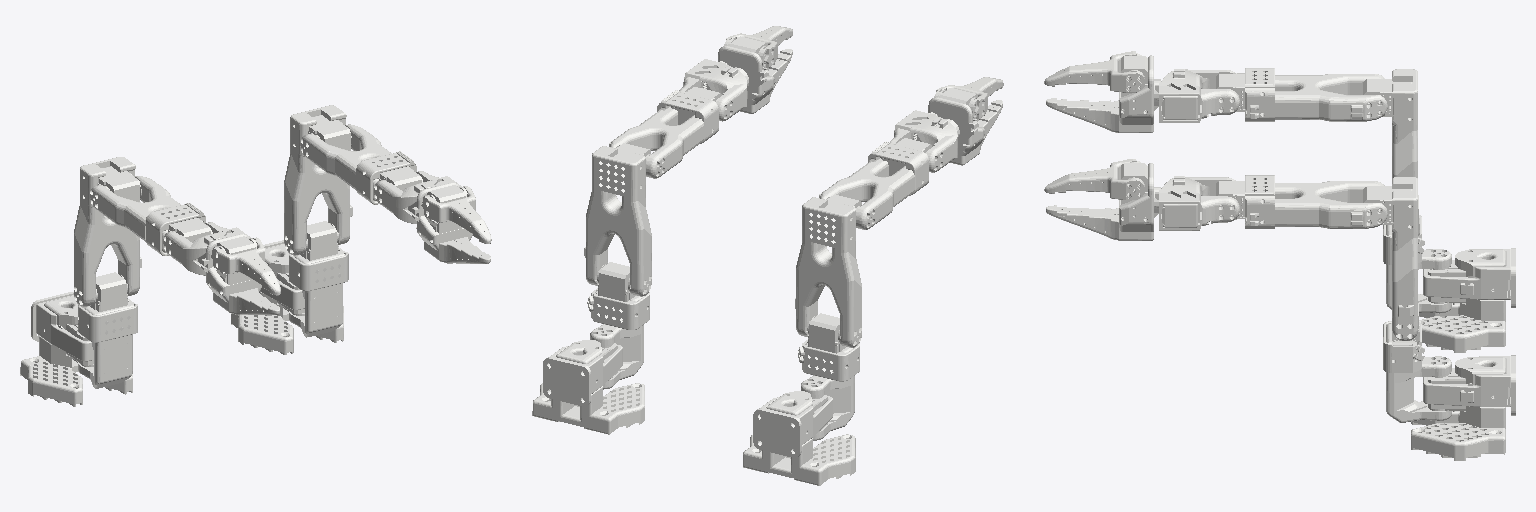
URDF robot description (Dual_S101_Assembly):
<?xml version="1.0" encoding="utf-8"?>
<!-- This URDF was automatically created by SolidWorks to URDF Exporter! Originally created by Stephen Brawner (brawner@gmail.com)
     Commit Version: 1.6.0-4-g7f85cfe  Build Version: 1.6.7995.38578
     For more information, please see http://wiki.ros.org/sw_urdf_exporter -->
<robot
  name="Dual_S101_Assembly">
  <link
    name="dual_arm_base">
    <inertial>
      <origin
        xyz="-0.0178305299775216 -0.0312739666747981 0.495861472904819"
        rpy="0 0 0" />
      <mass
        value="0.113223328532494" />
      <inertia
        ixx="4.32536013472457E-05"
        ixy="4.80940408470063E-07"
        ixz="-3.84409745863671E-07"
        iyy="0.000100588548123803"
        iyz="-6.90395402582089E-06"
        izz="0.000117560067330291" />
    </inertial>
    <visual>
      <origin
        xyz="0 0 0"
        rpy="0 0 0" />
      <geometry>
        <mesh
          filename="meshes/dual_arm_base.STL" />
      </geometry>
      <material
        name="">
        <color
          rgba="0.752941176470588 0.752941176470588 0.752941176470588 1" />
      </material>
    </visual>
    <collision>
      <origin
        xyz="0 0 0"
        rpy="0 0 0" />
      <geometry>
        <mesh
          filename="meshes/dual_arm_base.STL" />
      </geometry>
    </collision>
  </link>
  <link
    name="left_base">
    <inertial>
      <origin
        xyz="0.0162346687723646 -3.83724601515506E-05 0.0312250752546322"
        rpy="0 0 0" />
      <mass
        value="0.19173383972435" />
      <inertia
        ixx="0.000152939124549041"
        ixy="-5.13155925834886E-07"
        ixz="2.1208078238967E-05"
        iyy="0.000140329549233141"
        iyz="-2.4332900270951E-09"
        izz="0.000177680306692991" />
    </inertial>
    <visual>
      <origin
        xyz="0 0 0"
        rpy="0 0 0" />
      <geometry>
        <mesh
          filename="meshes/left_base.STL" />
      </geometry>
      <material
        name="">
        <color
          rgba="0.964705882352941 0.964705882352941 0.952941176470588 1" />
      </material>
    </visual>
    <collision>
      <origin
        xyz="0 0 0"
        rpy="0 0 0" />
      <geometry>
        <mesh
          filename="meshes/left_base.STL" />
      </geometry>
    </collision>
  </link>
  <joint
    name="left_joint_0"
    type="fixed">
    <origin
      xyz="0.11603 -0.0146 0.0048"
      rpy="0 0 -1.5708" />
    <parent
      link="dual_arm_base" />
    <child
      link="left_base" />
    <axis
      xyz="0 0 0" />
  </joint>
  <link
    name="left_shoulder">
    <inertial>
      <origin
        xyz="-0.031142635636725 -0.000121917022185905 -0.0110181845545189"
        rpy="0 0 0" />
      <mass
        value="0.118341939887238" />
      <inertia
        ixx="5.86113763858292E-05"
        ixy="8.61016250704921E-08"
        ixz="-4.52834126978146E-06"
        iyy="5.99919497140707E-05"
        iyz="-4.41406769865219E-07"
        izz="3.2731977952912E-05" />
    </inertial>
    <visual>
      <origin
        xyz="0 0 0"
        rpy="0 0 0" />
      <geometry>
        <mesh
          filename="meshes/left_shoulder.STL" />
      </geometry>
      <material
        name="">
        <color
          rgba="0.964705882352941 0.964705882352941 0.952941176470588 1" />
      </material>
    </visual>
    <collision>
      <origin
        xyz="0 0 0"
        rpy="0 0 0" />
      <geometry>
        <mesh
          filename="meshes/left_shoulder.STL" />
      </geometry>
    </collision>
  </link>
  <joint
    name="left_joint_1"
    type="revolute">
    <origin
      xyz="0.0452 0 0.0648"
      rpy="3.1416 0 -3.1416" />
    <parent
      link="left_base" />
    <child
      link="left_shoulder" />
    <axis
      xyz="0 0 1" />
    <limit
      lower="-1.9199"
      upper="1.9199"
      effort="3.0"
      velocity="10" />
    <dynamics
      damping="0.1"
      friction="0.1" />
    <safety_controller
      soft_upper_limit="1.8326"
      soft_lower_limit="-1.8326"
      k_position="100"
      k_velocity="10" />
  </joint>
  <link
    name="left_upper_arm">
    <inertial>
      <origin
        xyz="-0.0728206340591942 -0.00327441510690678 0.0182861176478301"
        rpy="0 0 0" />
      <mass
        value="0.15363212902419" />
      <inertia
        ixx="6.05949137462722E-05"
        ixy="2.03942902703261E-06"
        ixz="-1.39579952363567E-06"
        iyy="0.000189440396477305"
        iyz="-1.38443815875347E-07"
        izz="0.000151916888224126" />
    </inertial>
    <visual>
      <origin
        xyz="0 0 0"
        rpy="0 0 0" />
      <geometry>
        <mesh
          filename="meshes/left_upper_arm.STL" />
      </geometry>
      <material
        name="">
        <color
          rgba="0.964705882352941 0.964705882352941 0.952941176470588 1" />
      </material>
    </visual>
    <collision>
      <origin
        xyz="0 0 0"
        rpy="0 0 0" />
      <geometry>
        <mesh
          filename="meshes/left_upper_arm.STL" />
      </geometry>
    </collision>
  </link>
  <joint
    name="left_joint_2"
    type="revolute">
    <origin
      xyz="-0.0306 -0.0183 -0.0542"
      rpy="-1.5708 -1.5708 0" />
    <parent
      link="left_shoulder" />
    <child
      link="left_upper_arm" />
    <axis
      xyz="0 0 1" />
    <limit
      lower="-1.7453"
      upper="1.7453"
      effort="3.0"
      velocity="10" />
    <dynamics
      damping="0.1"
      friction="0.1" />
    <safety_controller
      soft_upper_limit="1.6581"
      soft_lower_limit="-1.6581"
      k_position="100"
      k_velocity="10" />
  </joint>
  <link
    name="left_lower_arm">
    <inertial>
      <origin
        xyz="-0.0775719382382264 0.00151952534810351 0.0180810175073838"
        rpy="0 0 0" />
      <mass
        value="0.143060147475685" />
      <inertia
        ixx="4.97460992968506E-05"
        ixy="-1.66006625280883E-06"
        ixz="8.74081902598206E-07"
        iyy="0.000134184383760885"
        iyz="6.16843370177025E-08"
        izz="0.000101485796665944" />
    </inertial>
    <visual>
      <origin
        xyz="0 0 0"
        rpy="0 0 0" />
      <geometry>
        <mesh
          filename="meshes/left_lower_arm.STL" />
      </geometry>
      <material
        name="">
        <color
          rgba="0.964705882352941 0.964705882352941 0.952941176470588 1" />
      </material>
    </visual>
    <collision>
      <origin
        xyz="0 0 0"
        rpy="0 0 0" />
      <geometry>
        <mesh
          filename="meshes/left_lower_arm.STL" />
      </geometry>
    </collision>
  </link>
  <joint
    name="left_joint_3"
    type="revolute">
    <origin
      xyz="-0.11257 -0.028 0"
      rpy="0 0 1.5708" />
    <parent
      link="left_upper_arm" />
    <child
      link="left_lower_arm" />
    <axis
      xyz="0 0 1" />
    <limit
      lower="-1.7453"
      upper="1.5708"
      effort="3.0"
      velocity="10" />
    <dynamics
      damping="0.1"
      friction="0.1" />
    <safety_controller
      soft_upper_limit="1.4835"
      soft_lower_limit="-1.6581"
      k_position="100"
      k_velocity="10" />
  </joint>
  <link
    name="left_wrist">
    <inertial>
      <origin
        xyz="-0.000184791961547442 -0.0353221206101238 0.025761322149223"
        rpy="0 0 0" />
      <mass
        value="0.0679708516273379" />
      <inertia
        ixx="3.41516470839204E-05"
        ixy="-1.17324864266176E-07"
        ixz="2.22549206578718E-08"
        iyy="2.44773195608375E-05"
        iyz="1.70608957623072E-06"
        izz="1.91135045565851E-05" />
    </inertial>
    <visual>
      <origin
        xyz="0 0 0"
        rpy="0 0 0" />
      <geometry>
        <mesh
          filename="meshes/left_wrist.STL" />
      </geometry>
      <material
        name="">
        <color
          rgba="0.964705882352941 0.964705882352941 0.952941176470588 1" />
      </material>
    </visual>
    <collision>
      <origin
        xyz="0 0 0"
        rpy="0 0 0" />
      <geometry>
        <mesh
          filename="meshes/left_wrist.STL" />
      </geometry>
    </collision>
  </link>
  <joint
    name="left_joint_4"
    type="revolute">
    <origin
      xyz="-0.1349 0.0052 0.0001"
      rpy="0 0 -1.5708" />
    <parent
      link="left_lower_arm" />
    <child
      link="left_wrist" />
    <axis
      xyz="0 0 1" />
    <limit
      lower="-1.6581"
      upper="1.6581"
      effort="3.0"
      velocity="10" />
    <dynamics
      damping="0.1"
      friction="0.1" />
    <safety_controller
      soft_upper_limit="1.5708"
      soft_lower_limit="-1.5708"
      k_position="100"
      k_velocity="10" />
  </joint>
  <link
    name="left_gripper">
    <inertial>
      <origin
        xyz="-0.00574752721018881 0.000439341267677723 -0.0266680289023382"
        rpy="0 0 0" />
      <mass
        value="0.092841669574477" />
      <inertia
        ixx="4.186396427962E-05"
        ixy="-5.47746420935492E-07"
        ixz="-6.83555875832769E-06"
        iyy="4.93735843503565E-05"
        iyz="-1.12209425132196E-07"
        izz="2.99241051160195E-05" />
    </inertial>
    <visual>
      <origin
        xyz="0 0 0"
        rpy="0 0 0" />
      <geometry>
        <mesh
          filename="meshes/left_gripper.STL" />
      </geometry>
      <material
        name="">
        <color
          rgba="0.964705882352941 0.964705882352941 0.952941176470588 1" />
      </material>
    </visual>
    <collision>
      <origin
        xyz="0 0 0"
        rpy="0 0 0" />
      <geometry>
        <mesh
          filename="meshes/left_gripper.STL" />
      </geometry>
    </collision>
  </link>
  <joint
    name="left_joint_5"
    type="revolute">
    <origin
      xyz="0 -0.0611 0.017882"
      rpy="1.5708 0 3.1416" />
    <parent
      link="left_wrist" />
    <child
      link="left_gripper" />
    <axis
      xyz="0 0 1" />
    <limit
      lower="-2.7925"
      upper="2.7925"
      effort="3.0"
      velocity="10" />
    <dynamics
      damping="0.1"
      friction="0.1" />
    <safety_controller
      soft_upper_limit="2.7053"
      soft_lower_limit="-2.7053"
      k_position="100"
      k_velocity="10" />
  </joint>
  <link
    name="left_jaw">
    <inertial>
      <origin
        xyz="-0.0015747081403174 -0.0300218594135709 0.019275602442142"
        rpy="0 0 0" />
      <mass
        value="0.0206924694063983" />
      <inertia
        ixx="1.14040266296032E-05"
        ixy="-5.5140615838995E-07"
        ixz="-1.01818943800375E-08"
        iyy="3.25982231241225E-06"
        iyz="-1.8947308010859E-07"
        izz="9.11579055714954E-06" />
    </inertial>
    <visual>
      <origin
        xyz="0 0 0"
        rpy="0 0 0" />
      <geometry>
        <mesh
          filename="meshes/left_jaw.STL" />
      </geometry>
      <material
        name="">
        <color
          rgba="0.964705882352941 0.964705882352941 0.952941176470588 1" />
      </material>
    </visual>
    <collision>
      <origin
        xyz="0 0 0"
        rpy="0 0 0" />
      <geometry>
        <mesh
          filename="meshes/left_jaw.STL" />
      </geometry>
    </collision>
  </link>
  <joint
    name="left_joint_6"
    type="revolute">
    <origin
      xyz="0.0202 0.018918 -0.0234"
      rpy="1.5708 0 0" />
    <parent
      link="left_gripper" />
    <child
      link="left_jaw" />
    <axis
      xyz="0 0 1" />
    <limit
      lower="-0.1745"
      upper="1.7453"
      effort="3.0"
      velocity="10" />
    <dynamics
      damping="0.05"
      friction="0.05" />
    <safety_controller
      soft_upper_limit="1.6581"
      soft_lower_limit="0.0873"
      k_position="50"
      k_velocity="5" />
  </joint>
  <link
    name="right_base">
    <inertial>
      <origin
        xyz="0.0162346687724207 -3.8372460282432E-05 0.0312250752543982"
        rpy="0 0 0" />
      <mass
        value="0.191733839722778" />
      <inertia
        ixx="0.000152939124548659"
        ixy="-5.13155925943902E-07"
        ixz="2.12080782391042E-05"
        iyy="0.00014032954923335"
        iyz="-2.43328979067538E-09"
        izz="0.000177680306692724" />
    </inertial>
    <visual>
      <origin
        xyz="0 0 0"
        rpy="0 0 0" />
      <geometry>
        <mesh
          filename="meshes/right_base.STL" />
      </geometry>
      <material
        name="">
        <color
          rgba="0.964705882352941 0.964705882352941 0.952941176470588 1" />
      </material>
    </visual>
    <collision>
      <origin
        xyz="0 0 0"
        rpy="0 0 0" />
      <geometry>
        <mesh
          filename="meshes/right_base.STL" />
      </geometry>
    </collision>
  </link>
  <joint
    name="right_joint_0"
    type="fixed">
    <origin
      xyz="-0.11603 -0.0146 0.0048"
      rpy="0 0 -1.5708" />
    <parent
      link="dual_arm_base" />
    <child
      link="right_base" />
    <axis
      xyz="0 0 0" />
  </joint>
  <link
    name="right_shoulder">
    <inertial>
      <origin
        xyz="-0.0311426356538473 -0.00012191698790015 -0.0110181845504216"
        rpy="0 0 0" />
      <mass
        value="0.118341939633333" />
      <inertia
        ixx="5.8611376294277E-05"
        ixy="8.61015905160519E-08"
        ixz="-4.52834124410574E-06"
        iyy="5.99919496601621E-05"
        iyz="-4.41406815526837E-07"
        izz="3.27319778730881E-05" />
    </inertial>
    <visual>
      <origin
        xyz="0 0 0"
        rpy="0 0 0" />
      <geometry>
        <mesh
          filename="meshes/right_shoulder.STL" />
      </geometry>
      <material
        name="">
        <color
          rgba="0.964705882352941 0.964705882352941 0.952941176470588 1" />
      </material>
    </visual>
    <collision>
      <origin
        xyz="0 0 0"
        rpy="0 0 0" />
      <geometry>
        <mesh
          filename="meshes/right_shoulder.STL" />
      </geometry>
    </collision>
  </link>
  <joint
    name="right_joint_1"
    type="revolute">
    <origin
      xyz="0.0452 0 0.0648"
      rpy="3.1416 0 -3.1416" />
    <parent
      link="right_base" />
    <child
      link="right_shoulder" />
    <axis
      xyz="0 0 1" />
    <limit
      lower="-1.9199"
      upper="1.9199"
      effort="3.0"
      velocity="10" />
    <dynamics
      damping="0.1"
      friction="0.1" />
    <safety_controller
      soft_upper_limit="1.8326"
      soft_lower_limit="-1.8326"
      k_position="100"
      k_velocity="10" />
  </joint>
  <link
    name="right_upper_arm">
    <inertial>
      <origin
        xyz="-0.0728206340591972 -0.00327441510690678 0.250350263689704"
        rpy="0 0 0" />
      <mass
        value="0.15363212902419" />
      <inertia
        ixx="6.05949137462722E-05"
        ixy="2.03942902703258E-06"
        ixz="-1.39579952363567E-06"
        iyy="0.000189440396477305"
        iyz="-1.38443815875406E-07"
        izz="0.000151916888224126" />
    </inertial>
    <visual>
      <origin
        xyz="0 0 0"
        rpy="0 0 0" />
      <geometry>
        <mesh
          filename="meshes/right_upper_arm.STL" />
      </geometry>
      <material
        name="">
        <color
          rgba="0.964705882352941 0.964705882352941 0.952941176470588 1" />
      </material>
    </visual>
    <collision>
      <origin
        xyz="0 0 0"
        rpy="0 0 0" />
      <geometry>
        <mesh
          filename="meshes/right_upper_arm.STL" />
      </geometry>
    </collision>
  </link>
  <joint
    name="right_joint_2"
    type="revolute">
    <origin
      xyz="-0.0306 -0.0183 -0.0542"
      rpy="-1.5708 -1.5708 0" />
    <parent
      link="right_shoulder" />
    <child
      link="right_upper_arm" />
    <axis
      xyz="0 0 1" />
    <limit
      lower="-1.7453"
      upper="1.7453"
      effort="3.0"
      velocity="10" />
    <dynamics
      damping="0.1"
      friction="0.1" />
    <safety_controller
      soft_upper_limit="1.6581"
      soft_lower_limit="-1.6581"
      k_position="100"
      k_velocity="10" />
  </joint>
  <link
    name="right_lower_arm">
    <inertial>
      <origin
        xyz="-0.0775719380306736 0.00151952533594926 0.0180810175945359"
        rpy="0 0 0" />
      <mass
        value="0.143060148064918" />
      <inertia
        ixx="4.97460996394073E-05"
        ixy="-1.66006621154095E-06"
        ixz="8.74081440084484E-07"
        iyy="0.000134184384767867"
        iyz="6.16843747496445E-08"
        izz="0.000101485797346287" />
    </inertial>
    <visual>
      <origin
        xyz="0 0 0"
        rpy="0 0 0" />
      <geometry>
        <mesh
          filename="meshes/right_lower_arm.STL" />
      </geometry>
      <material
        name="">
        <color
          rgba="0.964705882352941 0.964705882352941 0.952941176470588 1" />
      </material>
    </visual>
    <collision>
      <origin
        xyz="0 0 0"
        rpy="0 0 0" />
      <geometry>
        <mesh
          filename="meshes/right_lower_arm.STL" />
      </geometry>
    </collision>
  </link>
  <joint
    name="right_joint_3"
    type="revolute">
    <origin
      xyz="-0.11257 -0.028 0"
      rpy="0 0 1.5708" />
    <parent
      link="right_upper_arm" />
    <child
      link="right_lower_arm" />
    <axis
      xyz="0 0 1" />
    <limit
      lower="-1.7453"
      upper="1.5708"
      effort="3.0"
      velocity="10" />
    <dynamics
      damping="0.1"
      friction="0.1" />
    <safety_controller
      soft_upper_limit="1.4835"
      soft_lower_limit="-1.6581"
      k_position="100"
      k_velocity="10" />
  </joint>
  <link
    name="right_wrist">
    <inertial>
      <origin
        xyz="-0.00018479196122978 -0.0353221206091248 0.0257613221479055"
        rpy="0 0 0" />
      <mass
        value="0.0679708516331742" />
      <inertia
        ixx="3.41516470842545E-05"
        ixy="-1.1732486436127E-07"
        ixz="2.22549209410521E-08"
        iyy="2.4477319561352E-05"
        iyz="1.70608957642031E-06"
        izz="1.91135045565082E-05" />
    </inertial>
    <visual>
      <origin
        xyz="0 0 0"
        rpy="0 0 0" />
      <geometry>
        <mesh
          filename="meshes/right_wrist.STL" />
      </geometry>
      <material
        name="">
        <color
          rgba="0.964705882352941 0.964705882352941 0.952941176470588 1" />
      </material>
    </visual>
    <collision>
      <origin
        xyz="0 0 0"
        rpy="0 0 0" />
      <geometry>
        <mesh
          filename="meshes/right_wrist.STL" />
      </geometry>
    </collision>
  </link>
  <joint
    name="right_joint_4"
    type="revolute">
    <origin
      xyz="-0.1349 0.0052 0.0001"
      rpy="0 0 -1.5708" />
    <parent
      link="right_lower_arm" />
    <child
      link="right_wrist" />
    <axis
      xyz="0 0 1" />
    <limit
      lower="-1.6581"
      upper="1.6581"
      effort="3.0"
      velocity="10" />
    <dynamics
      damping="0.1"
      friction="0.1" />
    <safety_controller
      soft_upper_limit="1.5708"
      soft_lower_limit="-1.5708"
      k_position="100"
      k_velocity="10" />
  </joint>
  <link
    name="right_gripper">
    <inertial>
      <origin
        xyz="-0.00574752763582106 0.000439341024686582 -0.0266680290882676"
        rpy="0 0 0" />
      <mass
        value="0.092841671279361" />
      <inertia
        ixx="4.18639646796772E-05"
        ixy="-5.47746817354447E-07"
        ixz="-6.83555897415518E-06"
        iyy="4.93735846283438E-05"
        iyz="-1.12209606296432E-07"
        izz="2.99241055713867E-05" />
    </inertial>
    <visual>
      <origin
        xyz="0 0 0"
        rpy="0 0 0" />
      <geometry>
        <mesh
          filename="meshes/right_gripper.STL" />
      </geometry>
      <material
        name="">
        <color
          rgba="0.964705882352941 0.964705882352941 0.952941176470588 1" />
      </material>
    </visual>
    <collision>
      <origin
        xyz="0 0 0"
        rpy="0 0 0" />
      <geometry>
        <mesh
          filename="meshes/right_gripper.STL" />
      </geometry>
    </collision>
  </link>
  <joint
    name="right_joint_5"
    type="revolute">
    <origin
      xyz="0 -0.0611 0.017882"
      rpy="1.5708 0 -3.1416" />
    <parent
      link="right_wrist" />
    <child
      link="right_gripper" />
    <axis
      xyz="0 0 1" />
    <limit
      lower="-2.7925"
      upper="2.7925"
      effort="3.0"
      velocity="10" />
    <dynamics
      damping="0.1"
      friction="0.1" />
    <safety_controller
      soft_upper_limit="2.7053"
      soft_lower_limit="-2.7053"
      k_position="100"
      k_velocity="10" />
  </joint>
  <link
    name="right_jaw">
    <inertial>
      <origin
        xyz="-0.00157470813994792 -0.030021859344342 0.0192756025489046"
        rpy="0 0 0" />
      <mass
        value="0.020692469407428" />
      <inertia
        ixx="1.14040266298022E-05"
        ixy="-5.51406158479579E-07"
        ixz="-1.01818923166254E-08"
        iyy="3.25982231126522E-06"
        iyz="-1.89473059087859E-07"
        izz="9.11579055861443E-06" />
    </inertial>
    <visual>
      <origin
        xyz="0 0 0"
        rpy="0 0 0" />
      <geometry>
        <mesh
          filename="meshes/right_jaw.STL" />
      </geometry>
      <material
        name="">
        <color
          rgba="0.964705882352941 0.964705882352941 0.952941176470588 1" />
      </material>
    </visual>
    <collision>
      <origin
        xyz="0 0 0"
        rpy="0 0 0" />
      <geometry>
        <mesh
          filename="meshes/right_jaw.STL" />
      </geometry>
    </collision>
  </link>
  <joint
    name="right_joint_6"
    type="revolute">
    <origin
      xyz="0.0202 0.018918 -0.0234"
      rpy="1.5708 0 0" />
    <parent
      link="right_gripper" />
    <child
      link="right_jaw" />
    <axis
      xyz="0 0 1" />
    <limit
      lower="-0.1745"
      upper="1.7453"
      effort="3.0"
      velocity="10" />
    <dynamics
      damping="0.05"
      friction="0.05" />
    <safety_controller
      soft_upper_limit="1.6581"
      soft_lower_limit="0.0873"
      k_position="50"
      k_velocity="5" />
  </joint>
</robot>

--- Facts derived from the render (not from the file) ---
The picture shows the robot from 3 angles, left to right: view 1: azimuth 30°, elevation 25°; view 2: azimuth 150°, elevation 25°; view 3: azimuth 270°, elevation 25°; orthographic projection.
Model Dual_S101_Assembly with 15 links and 14 joints (12 revolute, 2 fixed), rooted at dual_arm_base, posed every joint at zero.
Links seen in each view (by area): view 1: left_upper_arm, right_upper_arm, right_base, right_shoulder, left_shoulder, left_lower_arm, right_lower_arm, left_base, right_gripper, left_gripper, left_jaw, right_jaw (+2 smaller); view 2: left_upper_arm, right_upper_arm, right_base, left_base, right_lower_arm, left_lower_arm, right_shoulder, left_shoulder, left_gripper, right_gripper, right_wrist, left_wrist (+2 smaller); view 3: left_base, right_base, right_lower_arm, left_lower_arm, left_upper_arm, left_shoulder, left_gripper, right_gripper, left_wrist, right_wrist, right_upper_arm, left_jaw (+2 smaller).
Boxes of the visible links, box(x1,y1,x2,y2) form: left_upper_arm: box(284, 105, 352, 255); right_upper_arm: box(74, 157, 141, 306); right_base: box(20, 292, 132, 406); right_shoulder: box(78, 272, 137, 388); left_shoulder: box(289, 221, 348, 337); left_lower_arm: box(300, 124, 422, 204); right_lower_arm: box(90, 176, 212, 255); left_base: box(231, 240, 343, 354); right_gripper: box(201, 234, 279, 315); left_gripper: box(412, 183, 490, 263); left_jaw: box(421, 186, 491, 243); right_jaw: box(211, 237, 280, 295); left_upper_arm: box(584, 143, 651, 296); right_upper_arm: box(795, 195, 861, 347); right_base: box(743, 391, 855, 485); left_base: box(532, 340, 644, 434); right_lower_arm: box(819, 138, 931, 229); left_lower_arm: box(609, 87, 721, 178); right_shoulder: box(798, 313, 859, 440); left_shoulder: box(587, 262, 649, 389); left_gripper: box(718, 36, 792, 113); right_gripper: box(928, 88, 1002, 165); right_wrist: box(890, 110, 957, 172); left_wrist: box(679, 59, 747, 121); left_base: box(1411, 355, 1515, 460); right_base: box(1419, 248, 1515, 352); right_lower_arm: box(1216, 68, 1387, 121); left_lower_arm: box(1216, 175, 1387, 228); left_upper_arm: box(1363, 177, 1417, 340); left_shoulder: box(1383, 303, 1451, 422); left_gripper: box(1046, 162, 1160, 240); right_gripper: box(1046, 54, 1160, 132); left_wrist: box(1155, 176, 1239, 230); right_wrist: box(1155, 69, 1239, 122); right_upper_arm: box(1363, 69, 1417, 177); left_jaw: box(1044, 159, 1144, 199).
Size in the robot's own frame: 0.343 by 0.43 by 0.2672 metres.
14 mesh visuals loaded from 15 distinct referenced files (14 binary STL); not drawn: 1 (reference not matched to a file when rendering).
